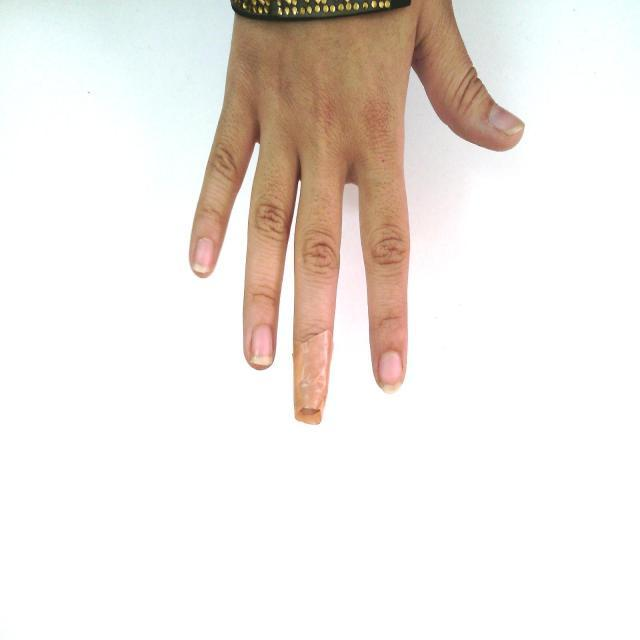Fingernail: (490, 104, 525, 136), (378, 350, 402, 392), (251, 325, 273, 365), (194, 238, 213, 273)
